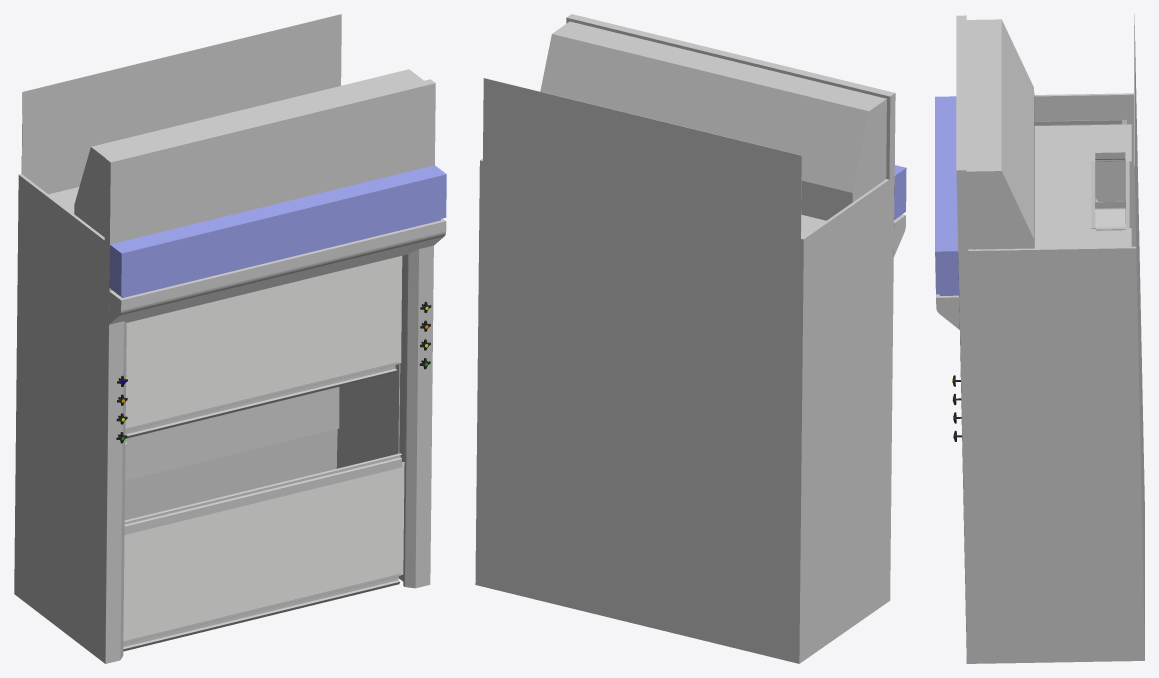
3 views of the same model, side by side, from view 1: azimuth 30°, elevation 25°; view 2: azimuth 150°, elevation 25°; view 3: azimuth 270°, elevation 25° (orthographic). The views are drawn at different scales.
Parts seen in each view (by area): view 1: Body34, Body2.005, Body1.020, Body1.007, Body1.009, Body1.002, Body31.001, Body1.018, Body1.004, Body1.017, Body35, Body1.022 (+7 smaller); view 2: Body1.008, Body34, Body1.022, Body1.009, Body1.007, Body35, Body30.001, Body1.002; view 3: Body30.001, Body1.022, Body1.006, Body1.002, Body31.001, Body34, Body1.007, Body1.008, Body33, Body3.002, Body1.004, Body1.009 (+1 smaller).
Part boxes in pixels (x1=…): Body34: x1=14, y1=174, x2=104, y2=659; Body2.005: x1=123, y1=462, x2=404, y2=640; Body1.020: x1=125, y1=256, x2=402, y2=427; Body1.007: x1=104, y1=79, x2=435, y2=244; Body1.009: x1=21, y1=14, x2=341, y2=173; Body1.002: x1=109, y1=165, x2=446, y2=296; Body31.001: x1=403, y1=245, x2=433, y2=588; Body1.018: x1=125, y1=387, x2=339, y2=480; Body1.004: x1=109, y1=218, x2=446, y2=324; Body1.017: x1=124, y1=429, x2=337, y2=520; Body35: x1=100, y1=241, x2=126, y2=663; Body1.022: x1=74, y1=69, x2=423, y2=236; Body1.008: x1=478, y1=161, x2=800, y2=662; Body34: x1=796, y1=179, x2=889, y2=663; Body1.022: x1=540, y1=21, x2=886, y2=220; Body1.009: x1=483, y1=78, x2=801, y2=238; Body1.007: x1=566, y1=14, x2=895, y2=179; Body35: x1=884, y1=176, x2=894, y2=603; Body30.001: x1=475, y1=158, x2=482, y2=585; Body1.002: x1=894, y1=165, x2=906, y2=219; Body30.001: x1=968, y1=246, x2=1144, y2=663; Body1.022: x1=966, y1=19, x2=1034, y2=249; Body1.006: x1=1034, y1=124, x2=1131, y2=248; Body1.002: x1=935, y1=96, x2=958, y2=294; Body31.001: x1=958, y1=249, x2=976, y2=663; Body34: x1=1034, y1=93, x2=1144, y2=501; Body1.007: x1=956, y1=15, x2=968, y2=251; Body1.008: x1=1136, y1=105, x2=1144, y2=653; Body33: x1=1095, y1=162, x2=1125, y2=201; Body3.002: x1=1095, y1=201, x2=1125, y2=230; Body1.004: x1=936, y1=294, x2=959, y2=329; Body1.009: x1=1134, y1=14, x2=1136, y2=246.
Size of the model in its own units: 21.95 by 32.81 by 12.57.
